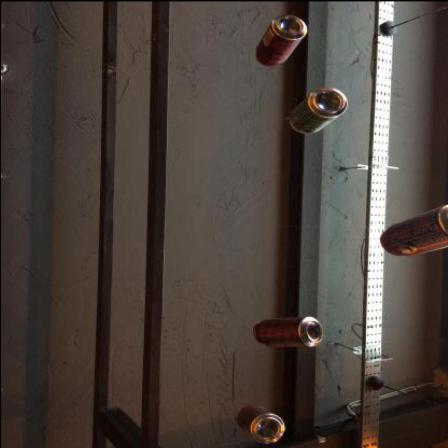Can: (381, 205, 448, 257), (290, 87, 348, 134), (255, 14, 307, 66), (254, 317, 324, 347), (237, 405, 284, 444)
